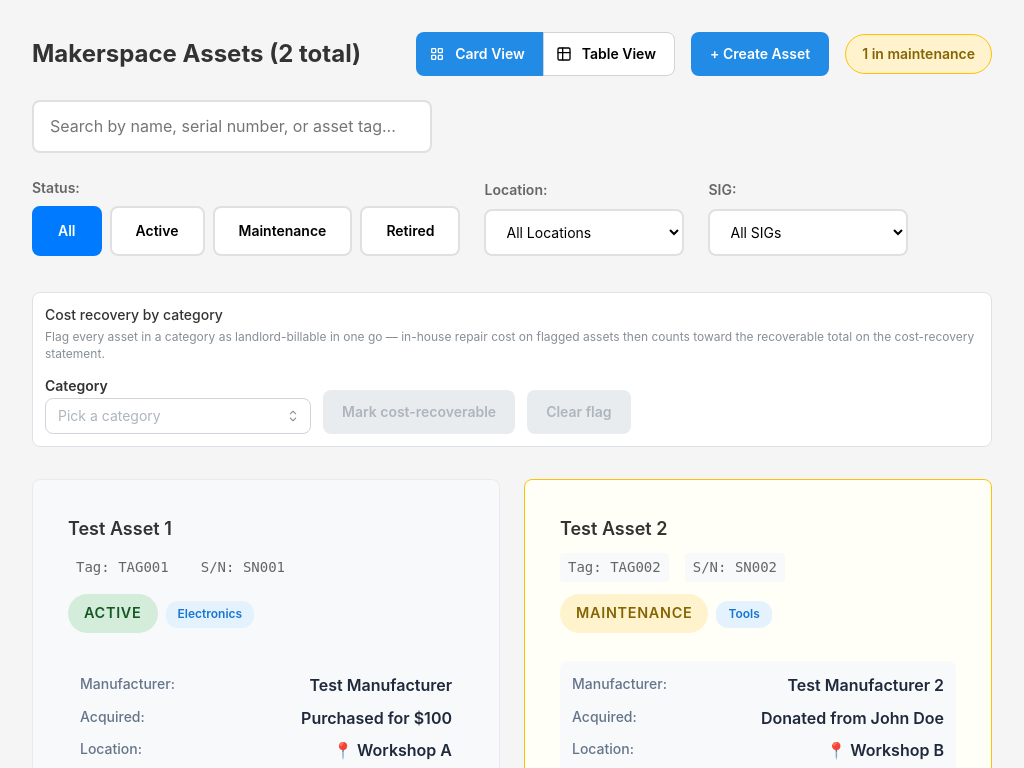
Test: AssetList › bulk cost-recovery by category › flags a whole category and reports how many changed
The width and height of the screenshot is (1024, 768).
Click the dropdown with test id "bulk-cost-recoverable-category". click: (178, 416)
box: [45,398,311,434]
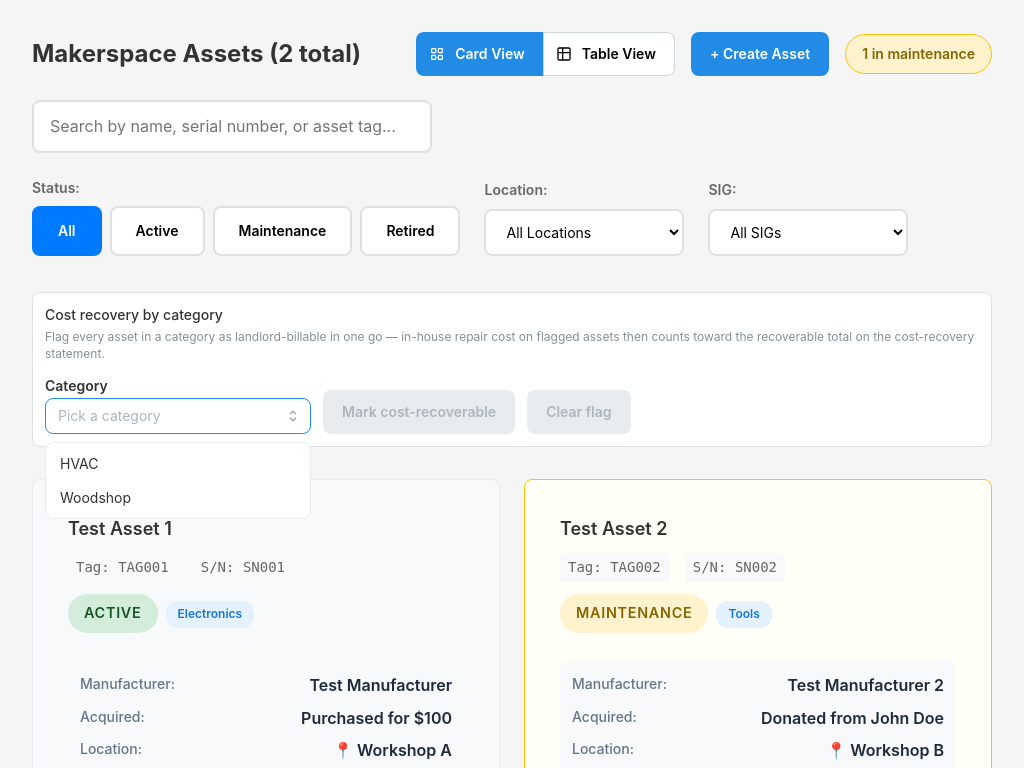
Click the option "HVAC". click: (79, 463)
box: [60,455,98,472]
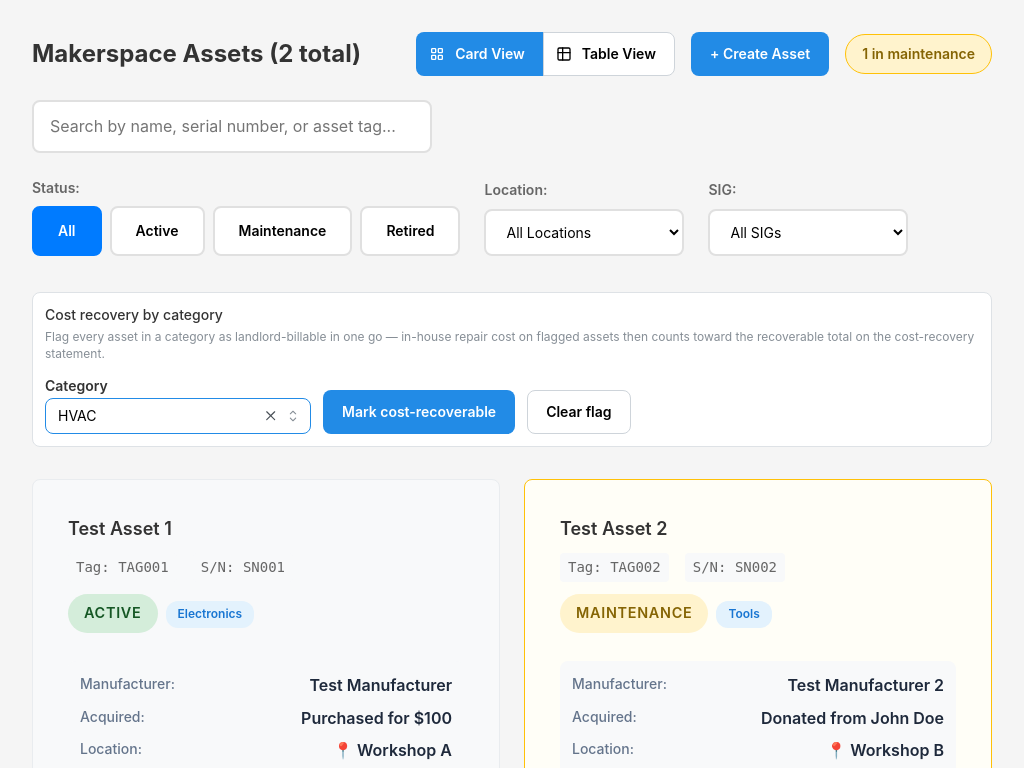
Click the button with test id "bulk-cost-recoverable-set". click: (419, 412)
box: [323,390,515,434]
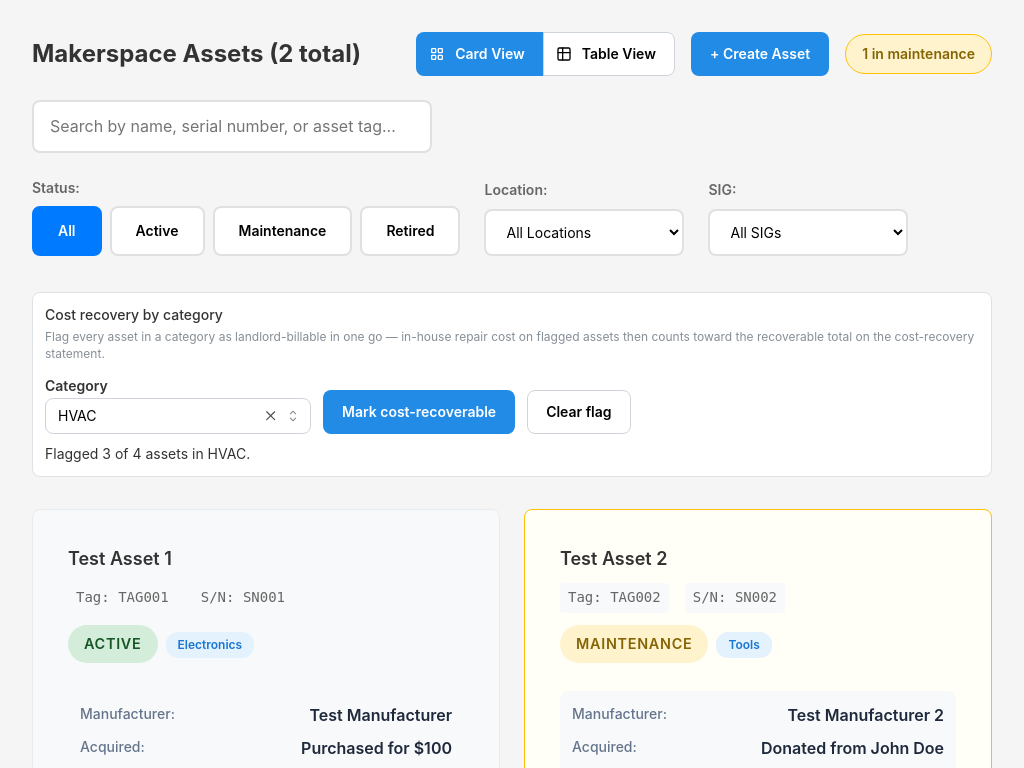
Expected: the text with test id "bulk-cost-recoverable-result" reads "Flagged 3 of 4 assets in HVAC.", [45,445,250,462]
